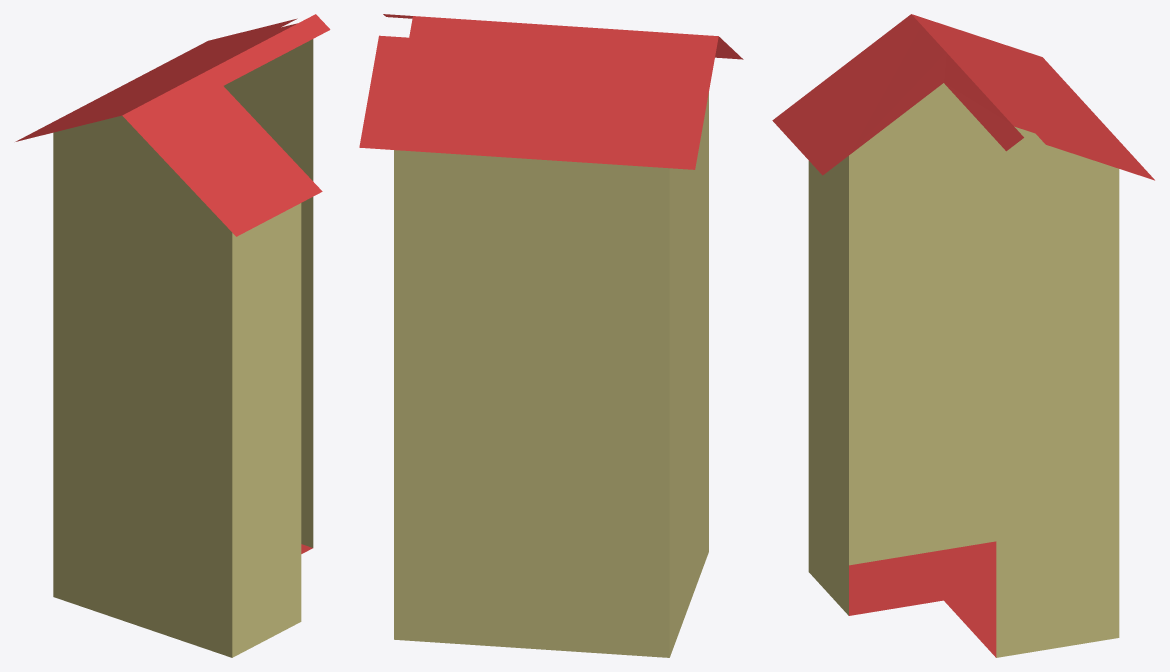
3 renders of one model, left to right at view 1: azimuth 30°, elevation 25°; view 2: azimuth 150°, elevation 25°; view 3: azimuth 270°, elevation 25°, orthographic. The views are drawn at different scales.
Bounding box in the file's own units: 6.22 × 6.81 × 10.36.
